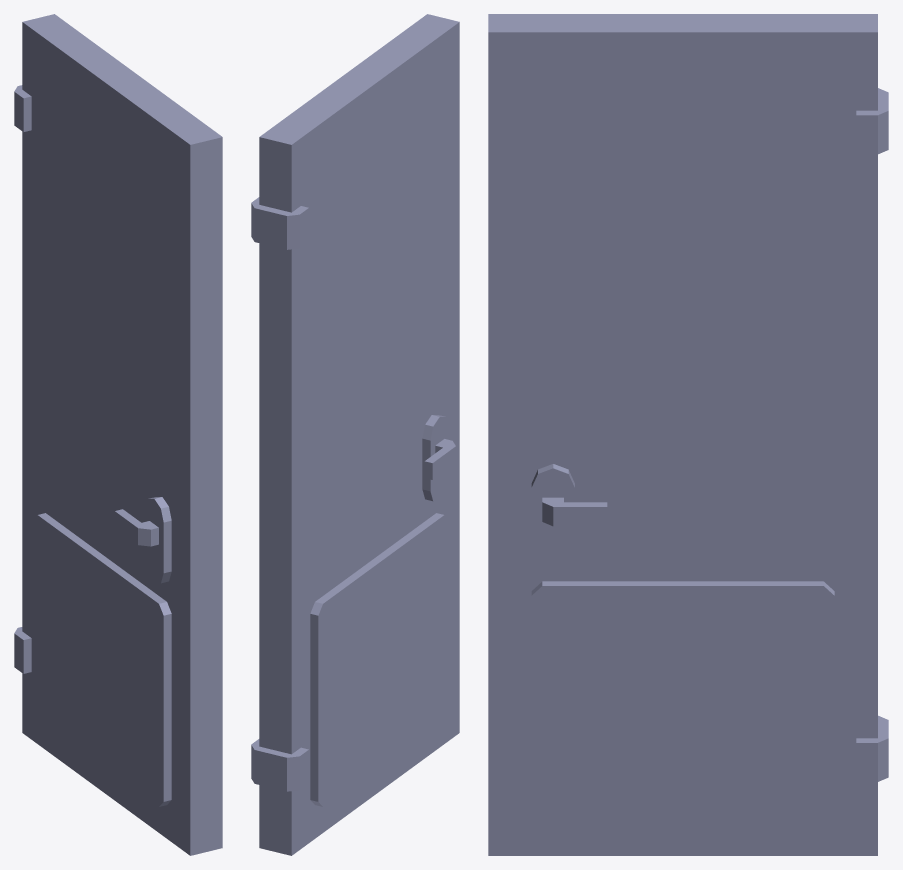
File: door-rotate-square-a.obj
The picture shows the model from 3 angles, left to right: view 1: azimuth 30°, elevation 25°; view 2: azimuth 150°, elevation 25°; view 3: azimuth 270°, elevation 25°; orthographic projection. The views are drawn at different scales.
Bounding box in the file's own units: 0.25 × 2.1 × 0.925.
